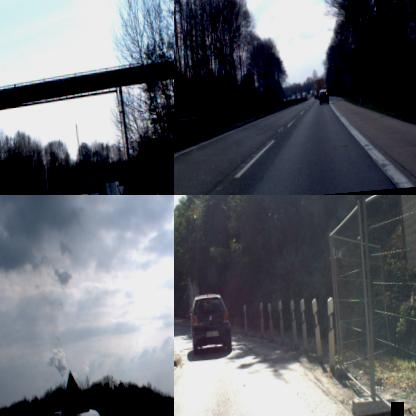give way: (115, 183, 126, 195)
slippery road: (57, 370, 90, 416)
speed limit 100: (404, 17, 416, 44)
